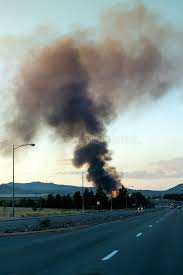smoke: (4, 47, 108, 162)
